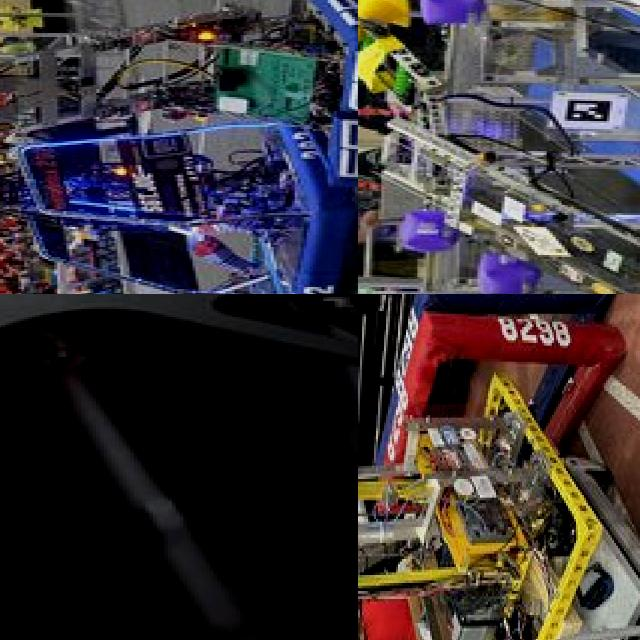FRC-Robots: (358, 364, 587, 640), (359, 128, 640, 294), (0, 152, 358, 270), (79, 0, 358, 128), (0, 294, 358, 368)
